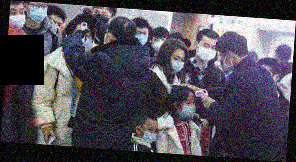with_mask: (73, 29, 95, 53), (196, 40, 218, 62), (26, 2, 48, 23), (9, 5, 27, 30), (166, 53, 186, 75), (178, 97, 197, 118), (140, 124, 159, 144), (218, 56, 235, 72), (134, 29, 149, 46), (153, 35, 167, 53)
